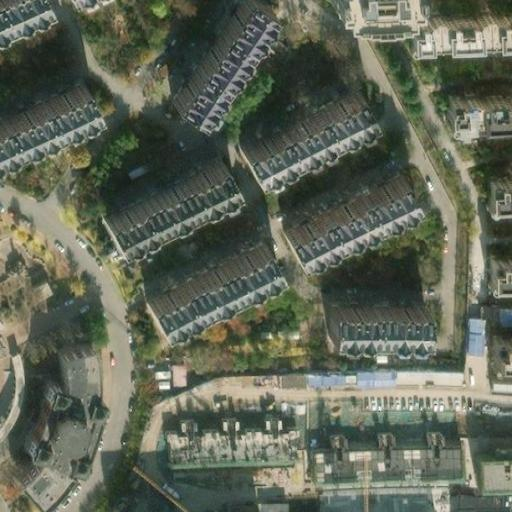building: (9, 336, 93, 491), (271, 168, 403, 260), (136, 239, 267, 329), (95, 154, 223, 244), (231, 87, 358, 174), (310, 446, 460, 484), (162, 421, 293, 461), (391, 4, 512, 40), (271, 366, 451, 385), (323, 300, 416, 334), (435, 84, 512, 116), (470, 451, 512, 484), (477, 167, 512, 198), (480, 249, 512, 279), (484, 330, 512, 361), (460, 313, 478, 355), (493, 302, 512, 323), (257, 500, 290, 511), (488, 371, 512, 386)
